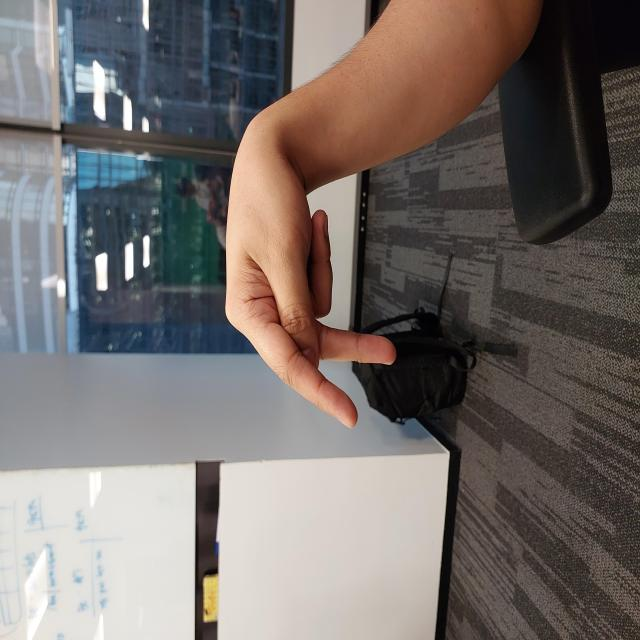P: (208, 222, 513, 399)
